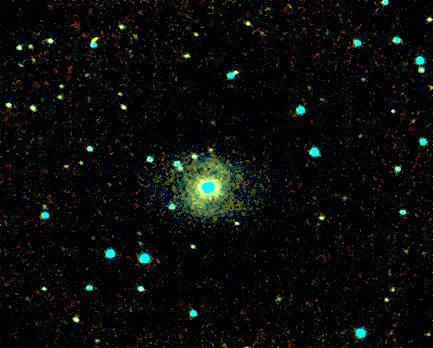star: (198, 135, 228, 165)
